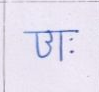aa_matra: (59, 33, 63, 62)
